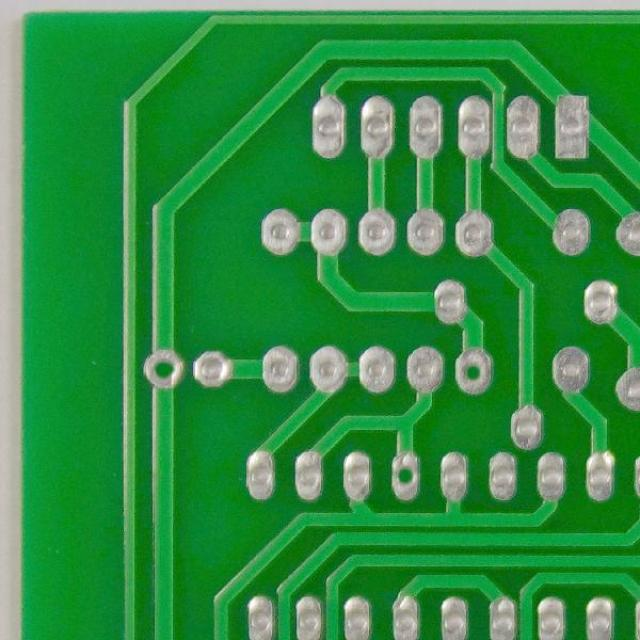Missing_Hole: (451, 346, 495, 396), (140, 344, 186, 390), (387, 448, 425, 501)
